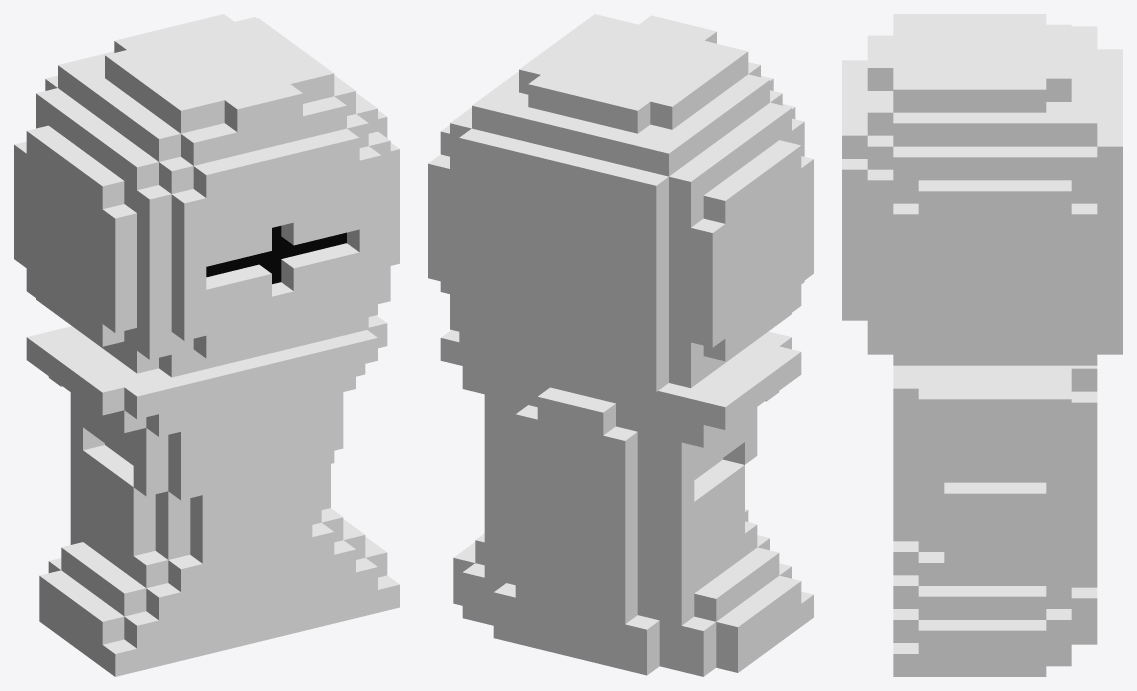
The model's file is Body.obj.
3 views of the same model, side by side, from view 1: azimuth 30°, elevation 25°; view 2: azimuth 150°, elevation 25°; view 3: azimuth 270°, elevation 25° (orthographic).
Parts seen in each view (by area): view 1: Body; view 2: Body; view 3: Body.
Part boxes in pixels (box(x1,y1,x2,y2)): Body: box(14, 14, 399, 676); Body: box(428, 14, 813, 676); Body: box(842, 14, 1122, 676).
Bounding box in the file's own units: 13 × 24 × 11.
1 material, 1 textured.
